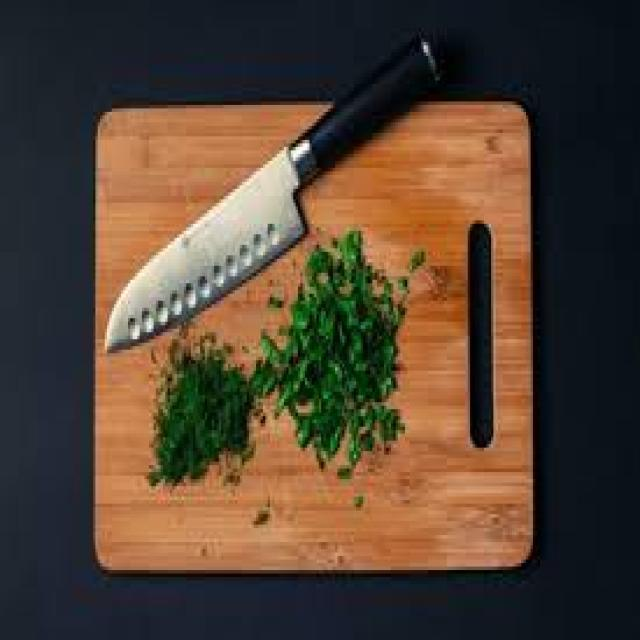Knife: (105, 35, 435, 350)
